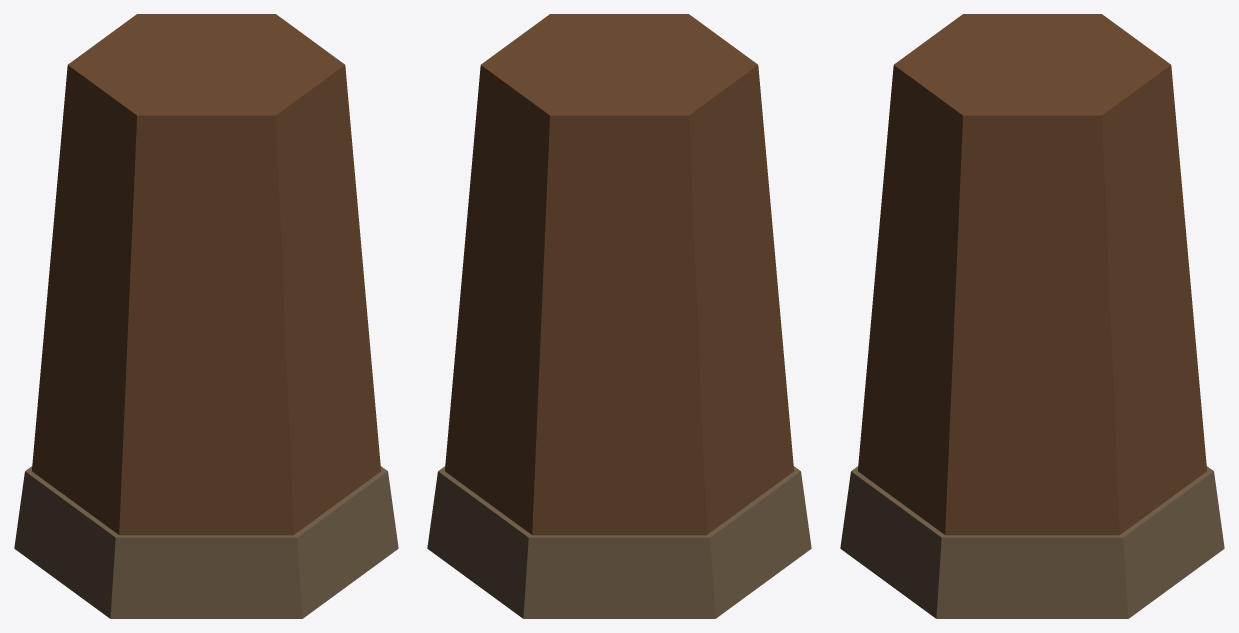
The model's file is boardwalk_pile.glb.
3 views of the same model, side by side, from view 1: azimuth 30°, elevation 25°; view 2: azimuth 150°, elevation 25°; view 3: azimuth 270°, elevation 25° (orthographic).
Parts seen in each view (by area): view 1: boardwalk_pile; view 2: boardwalk_pile; view 3: boardwalk_pile.
Part boxes in pixels (<box>): boardwalk_pile: <box>14,14,398,618</box>; boardwalk_pile: <box>427,14,811,618</box>; boardwalk_pile: <box>840,14,1224,618</box>.
Size of the model in its own units: 0.6235 by 1 by 0.72.
